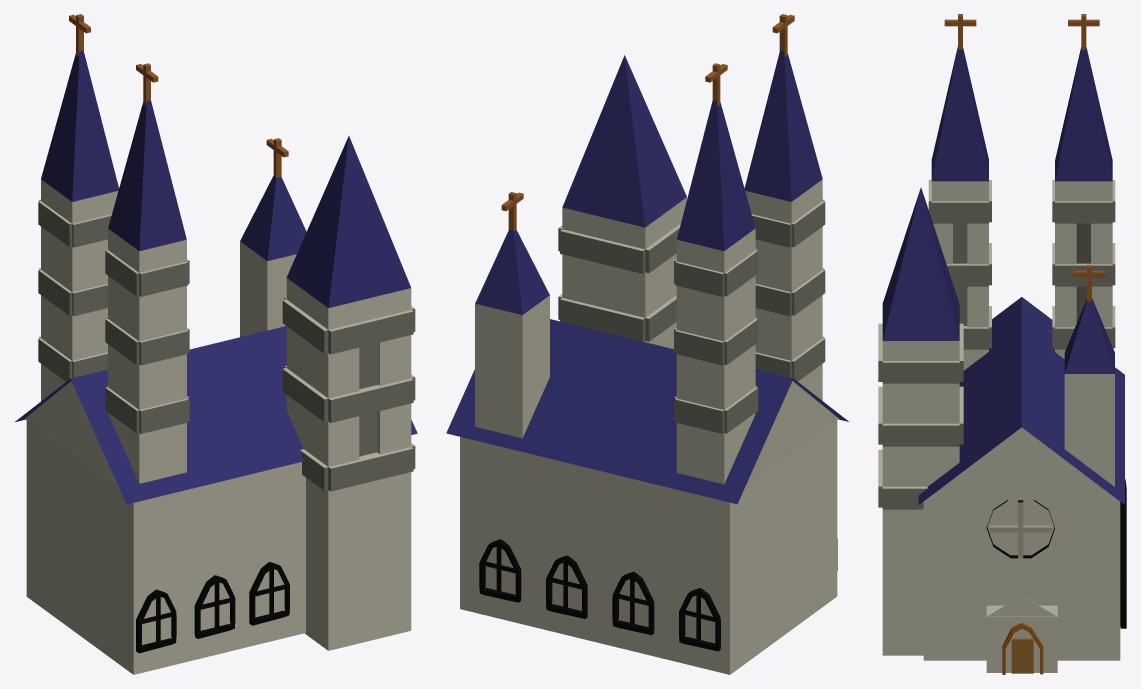
Rendered from ChurchType2.fbx.
3 renders of one model, left to right at view 1: azimuth 30°, elevation 25°; view 2: azimuth 150°, elevation 25°; view 3: azimuth 270°, elevation 25°, orthographic. The views are drawn at different scales.
Parts seen in each view (by area): view 1: Main Building; view 2: Main Building; view 3: Main Building.
Part boxes in pixels (<box>): Main Building: <box>15,14,417,674</box>; Main Building: <box>446,14,848,674</box>; Main Building: <box>878,14,1126,674</box>.
Size of the model in its own units: 2331 by 4230 by 1760.
